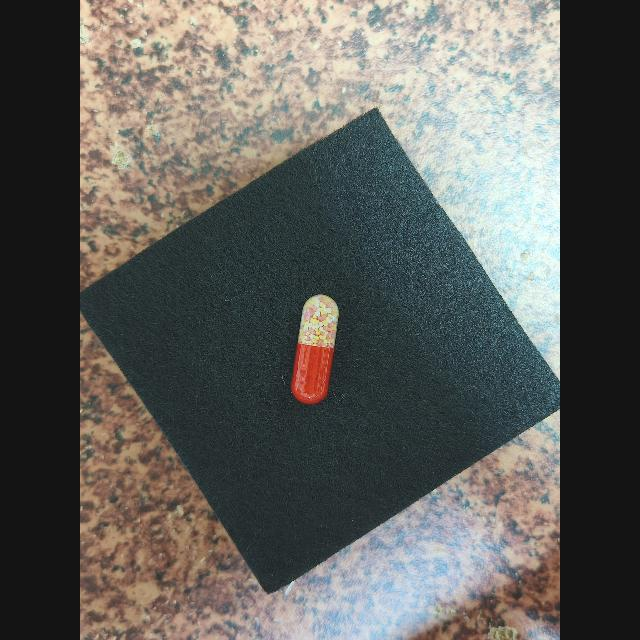Intact Capsule: (291, 294, 339, 404)
